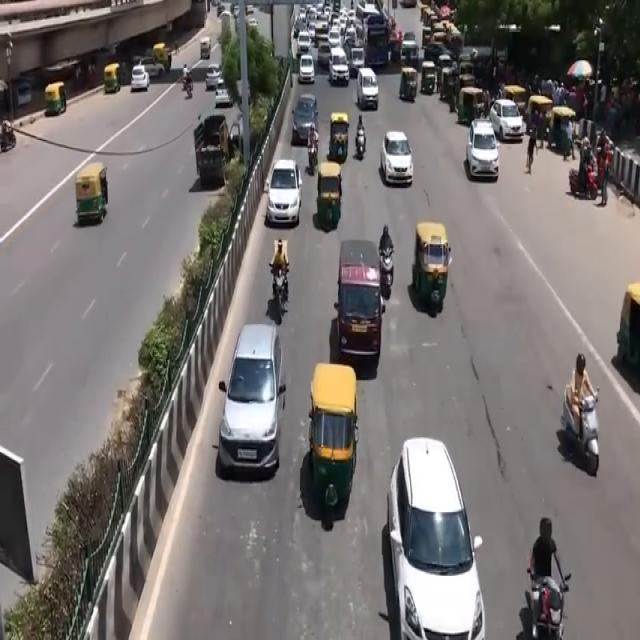BUS: (367, 13, 391, 68)
MOTORCYCLE: (530, 571, 570, 638), (574, 393, 601, 481), (273, 270, 290, 326), (381, 250, 396, 300)
